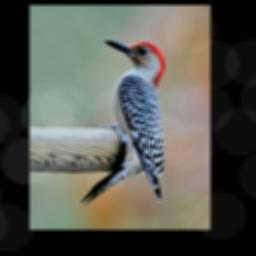Woodpecker: (74, 33, 173, 217)
